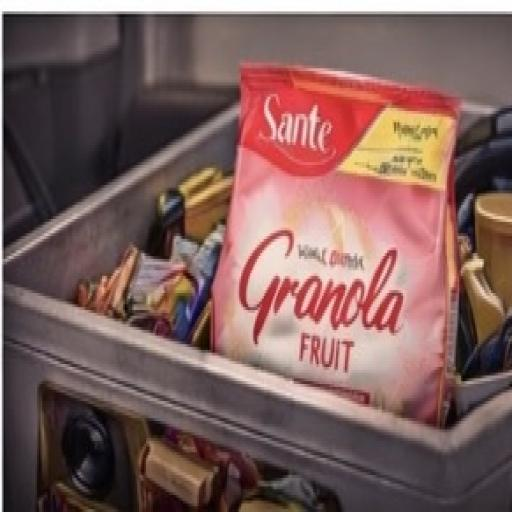granola: (204, 32, 485, 461)
